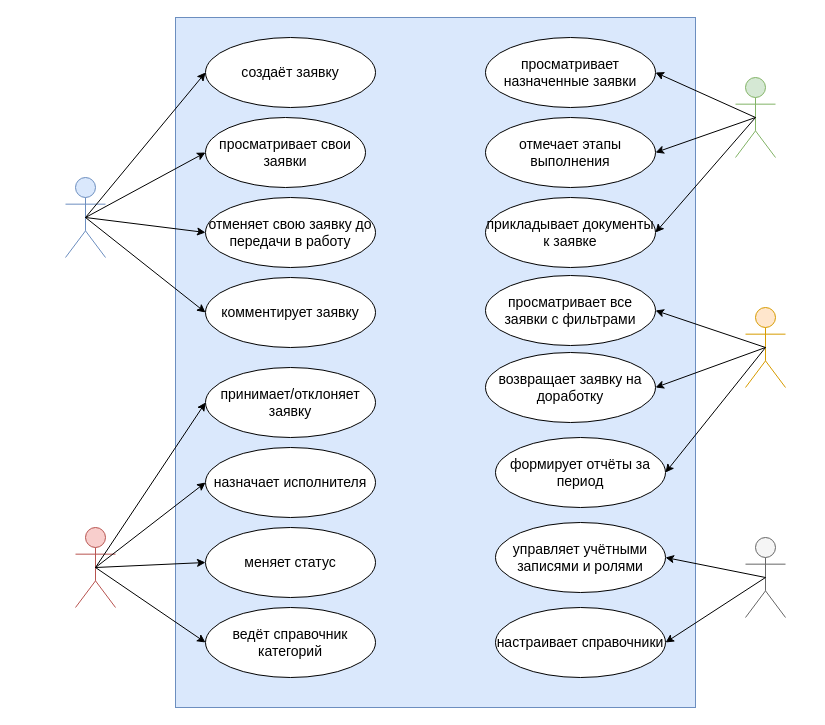
The diagram is 825 pixels wide and 725 high, and some of its shapes have lost their labels. The centre of each missing label's shape, as x and y in pixels:
Исполнитель: (x=755, y=117)
Классный руководитель (заявитель): (x=85, y=217)
Оператор отдела питания (администратор): (x=95, y=567)
Руководитель (контролёр): (x=765, y=347)
Системный администратор: (x=765, y=577)
